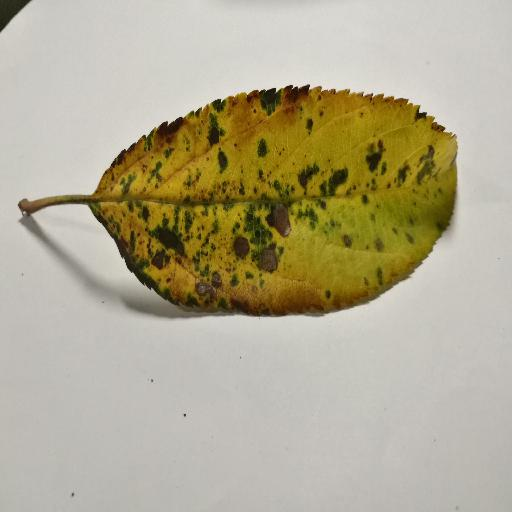Brown_Spot: (116, 165, 314, 278)
